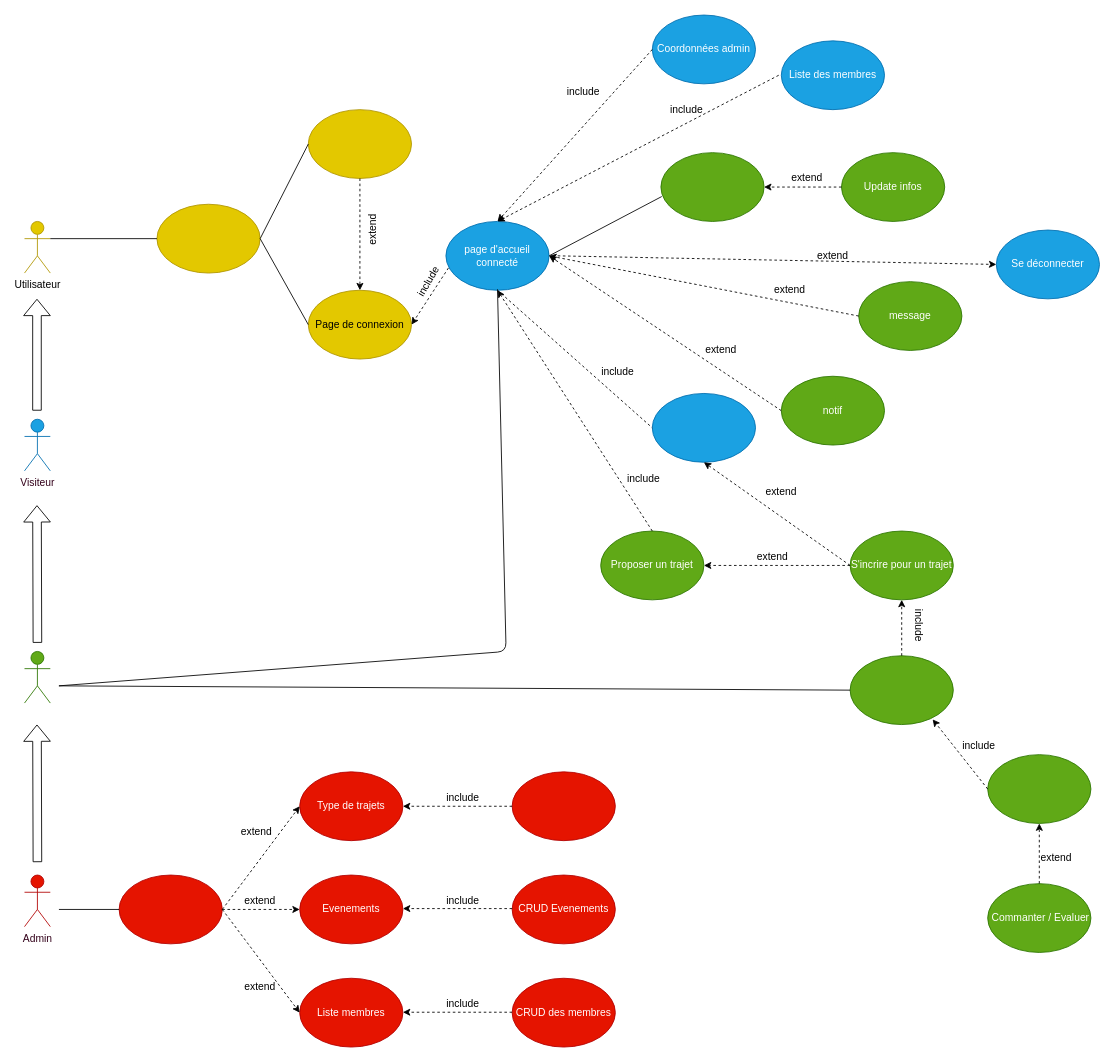
The diagram is 1115 pixels wide and 1062 high, and some of its shapes have lost their labels. The centre of each missing label's shape, as x and y in pixels:
Compte: (x=712, y=186)
CRUD type de trajets: (x=563, y=806)
Dashboard: (x=170, y=909)
En attente de validtion: (x=901, y=690)
Inscription: (x=359, y=143)
Liste des trajets: (x=703, y=427)
Membre: (x=37, y=677)
Page d'acceuil: (x=208, y=238)
trajets finits: (x=1039, y=788)
